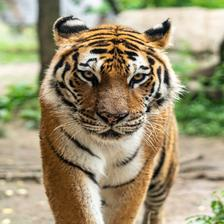tiger: (34, 13, 185, 224)
